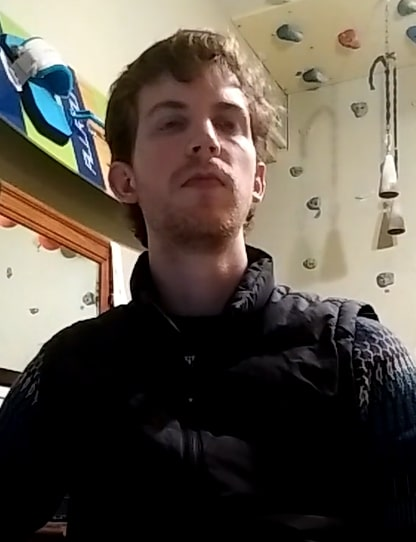Half Asleep: (142, 101, 250, 142)
